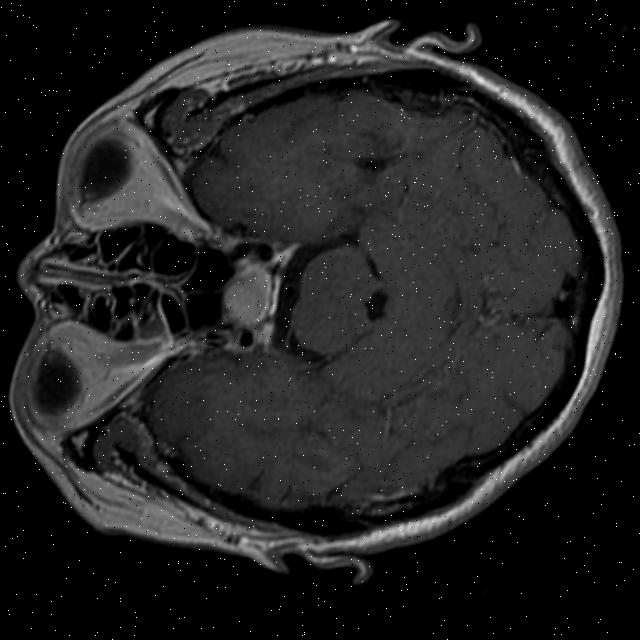Pituitary: (213, 259, 279, 333)
